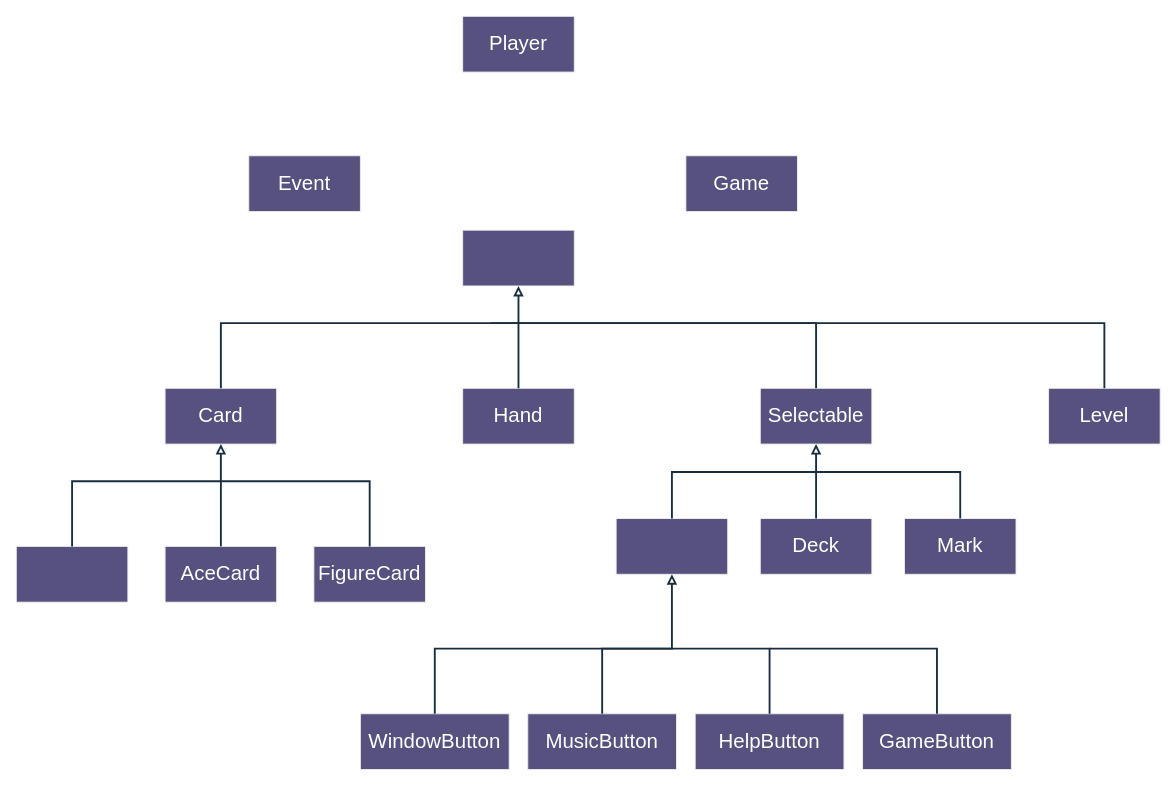
Image size: 1176x786. Some labels were removed from this diagram. The centre of each missing label's shape, as x and y in pixels:
"Button" goes at [671,546].
"PlainCard" goes at [71,573].
"Scopable" goes at [518,257].
